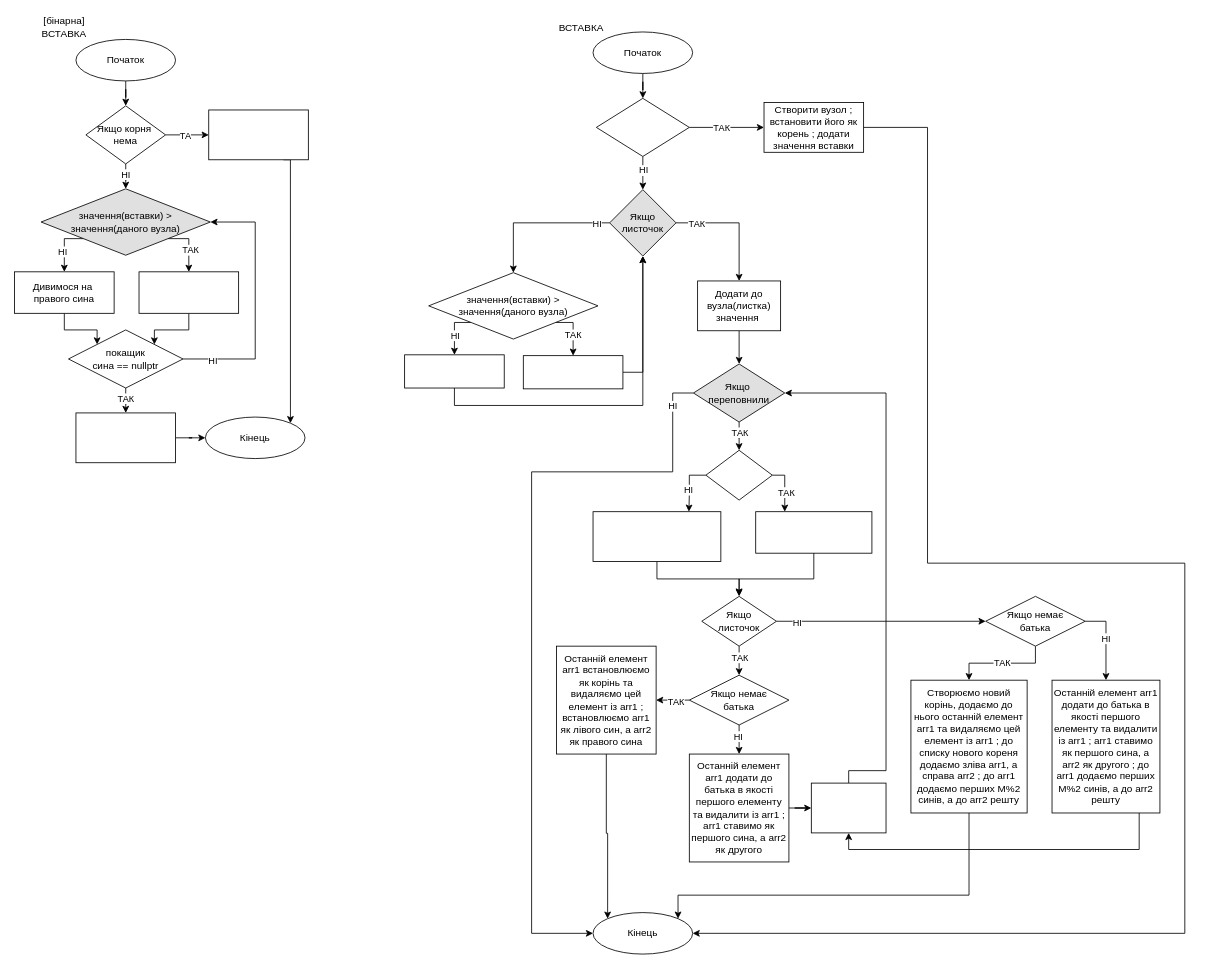
The diagram is 1206 pixels wide and 969 high, and some of its shapes have lost their labels. Here are the shapes that lost their labels. From the top down, the centre of each, then its label:
(258,134): Створити вузол та встановити його як корень
(642,127): Якщо дерево пусте
(188,292): Дивимося на лівого сина
(454,371): Перейти до правого сина
(572,372): Перейти до лівого сина
(125,437): Створити вузол та встановити його як сина поточного вузла
(738,474): Якщо M парне
(656,536): Розбиваєм вузол на два масиви arr1 на М%2+1 елементів, а arr2 на М%2 елементів
(813,532): Розбиваєм вузол на два масиви arr1 та arr2 по М/2 елементів
(848,807): Перейти до батька
